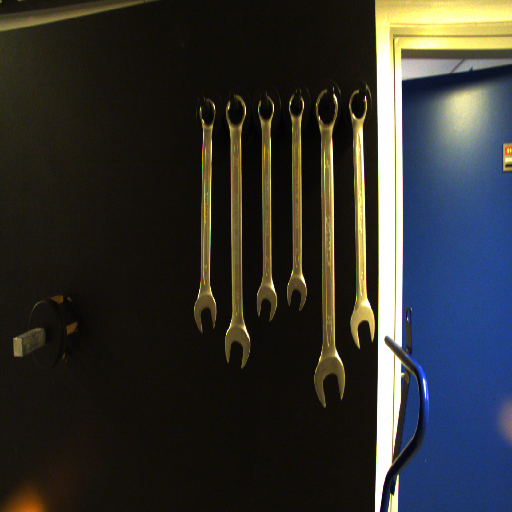bottom: (310, 355, 349, 409), (221, 323, 254, 370), (345, 304, 376, 350), (192, 293, 222, 333), (281, 276, 312, 312), (254, 285, 278, 323)
top: (312, 87, 339, 128), (222, 94, 248, 130), (194, 97, 219, 130), (348, 88, 369, 124), (254, 94, 279, 124), (284, 92, 308, 120)
